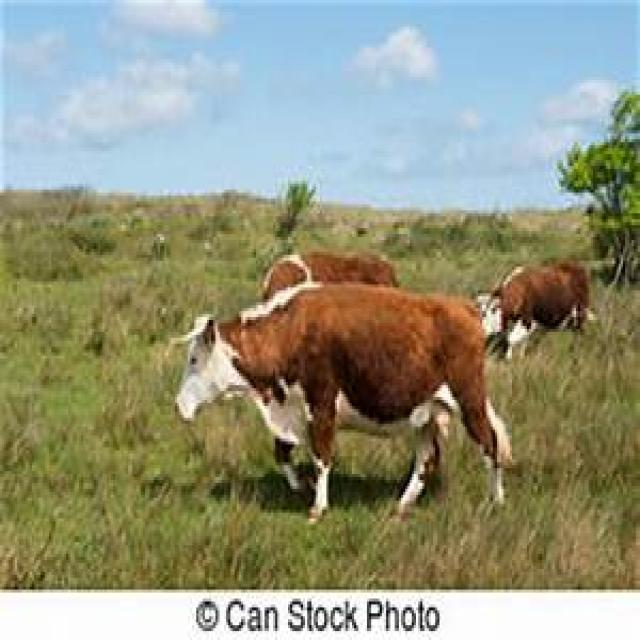cow: (176, 284, 514, 512), (473, 256, 597, 354)
